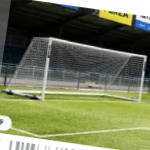goals: (4, 36, 147, 104)
